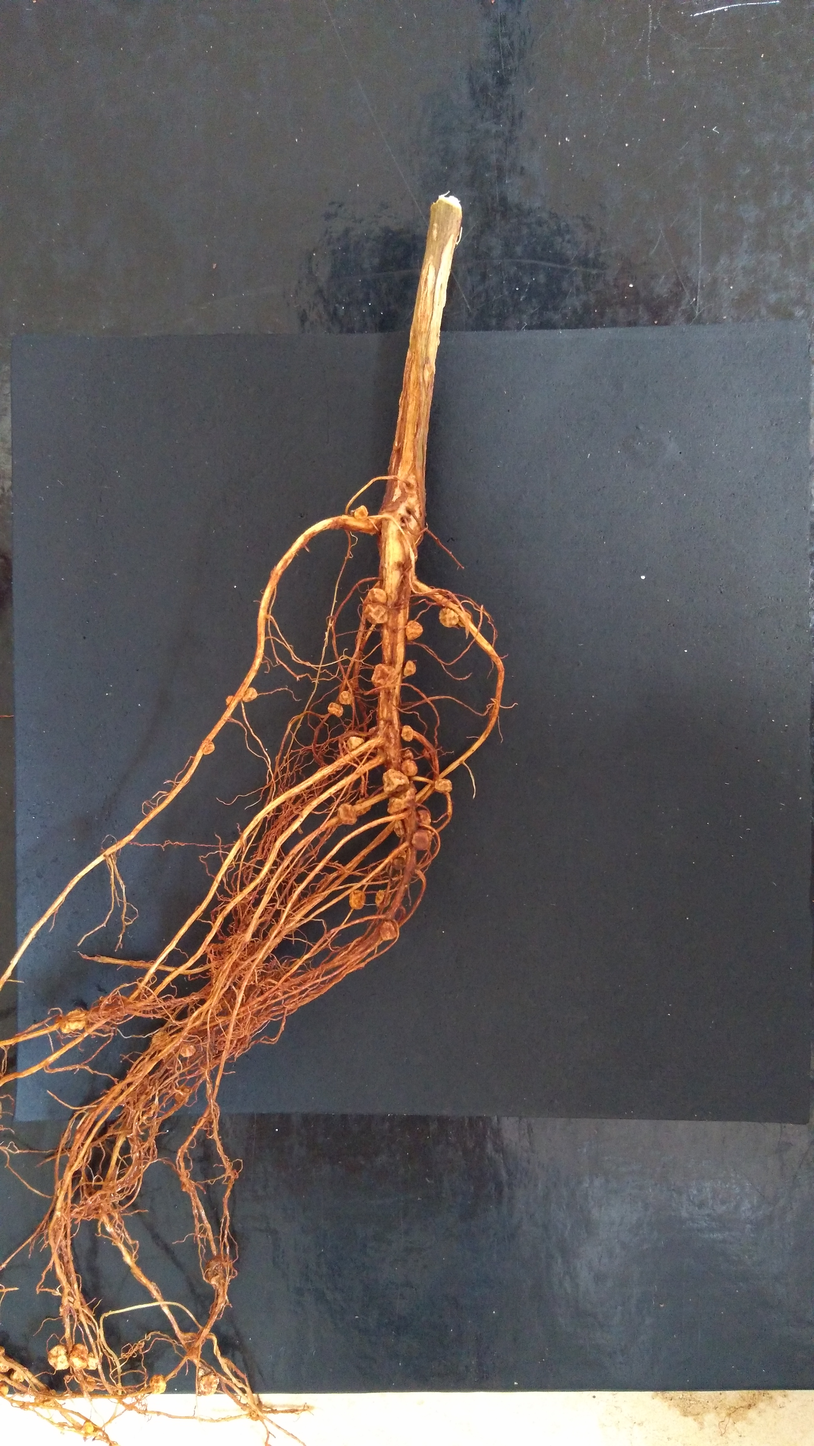nodule: (203, 1253, 232, 1281), (370, 662, 398, 691), (380, 768, 409, 795), (45, 1343, 71, 1372), (66, 1342, 88, 1373), (60, 1008, 86, 1034), (409, 827, 433, 854), (362, 602, 389, 625), (196, 1372, 218, 1398), (338, 801, 358, 827), (148, 1371, 168, 1396), (438, 606, 459, 629), (151, 1030, 173, 1050), (405, 619, 423, 642), (353, 797, 373, 817), (385, 795, 405, 815), (347, 889, 366, 910), (379, 921, 398, 942), (366, 588, 388, 606), (416, 807, 432, 830), (399, 759, 418, 778), (345, 735, 365, 752), (374, 889, 391, 908), (390, 849, 407, 868), (0, 1346, 11, 1374), (79, 1377, 97, 1394), (434, 778, 453, 794), (85, 1351, 99, 1372), (327, 701, 344, 718), (79, 1419, 95, 1437), (402, 659, 417, 678), (179, 1042, 196, 1058), (353, 504, 369, 520), (242, 687, 258, 703), (11, 1368, 26, 1385), (393, 819, 406, 838), (458, 611, 472, 628), (401, 724, 414, 742), (201, 740, 216, 755), (423, 746, 439, 760), (338, 690, 352, 705), (400, 748, 414, 761), (249, 1409, 259, 1423), (1, 1384, 9, 1400), (224, 694, 234, 706), (72, 1298, 82, 1310)
